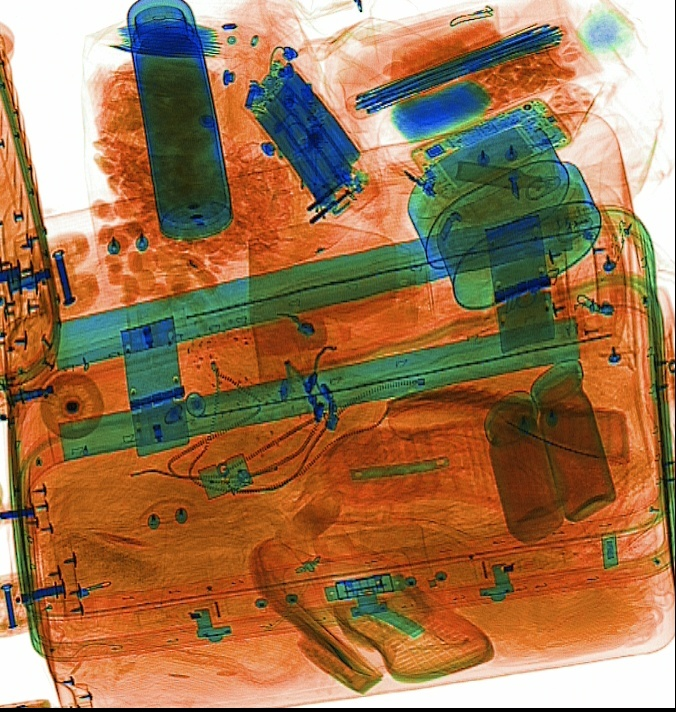powerbank: (248, 53, 363, 207)
